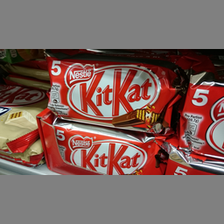chocolate: (44, 58, 172, 132), (48, 121, 163, 174), (180, 76, 224, 159)
